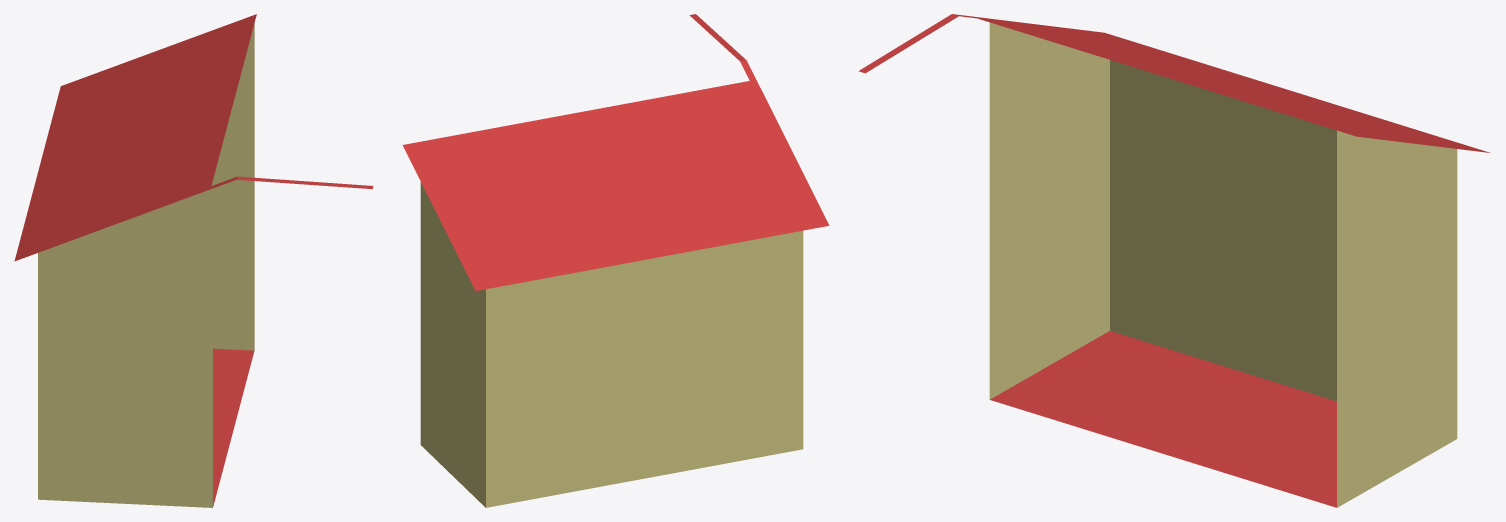
3 views of the same model, side by side, from view 1: azimuth 30°, elevation 25°; view 2: azimuth 150°, elevation 25°; view 3: azimuth 270°, elevation 25° (orthographic). The views are drawn at different scales.
Bounding box in the file's own units: 9.5 × 12.85 × 8.73.
